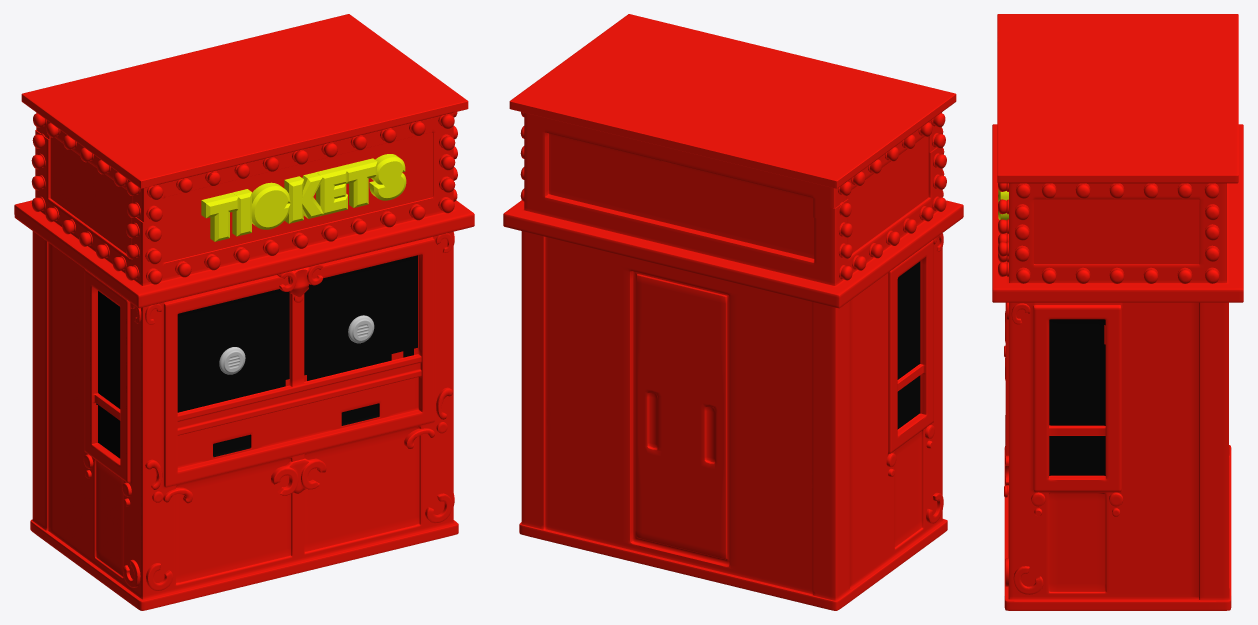
File: cabine_tickets.fbx
3 renders of one model, left to right at view 1: azimuth 30°, elevation 25°; view 2: azimuth 150°, elevation 25°; view 3: azimuth 270°, elevation 25°, orthographic.
Parts seen in each view (by area): view 1: Default, Plane, Plane_1, Cap_1, Rounding_1, Extrude; view 2: Default, Plane_1; view 3: Default, Plane_2.
Boxes of the visible parts, left/top/right/bottom form: Default: left=14, top=14, right=474, bottom=610; Plane: left=163, top=132, right=432, bottom=262; Plane_1: left=50, top=137, right=131, bottom=253; Cap_1: left=210, top=161, right=404, bottom=238; Rounding_1: left=206, top=157, right=406, bottom=241; Extrude: left=201, top=154, right=399, bottom=241; Default: left=503, top=14, right=963, bottom=610; Plane_1: left=847, top=136, right=928, bottom=252; Default: left=992, top=14, right=1243, bottom=610; Plane_2: left=1033, top=199, right=1199, bottom=264.
Bounding box in the file's own units: 216 × 267 × 139.
